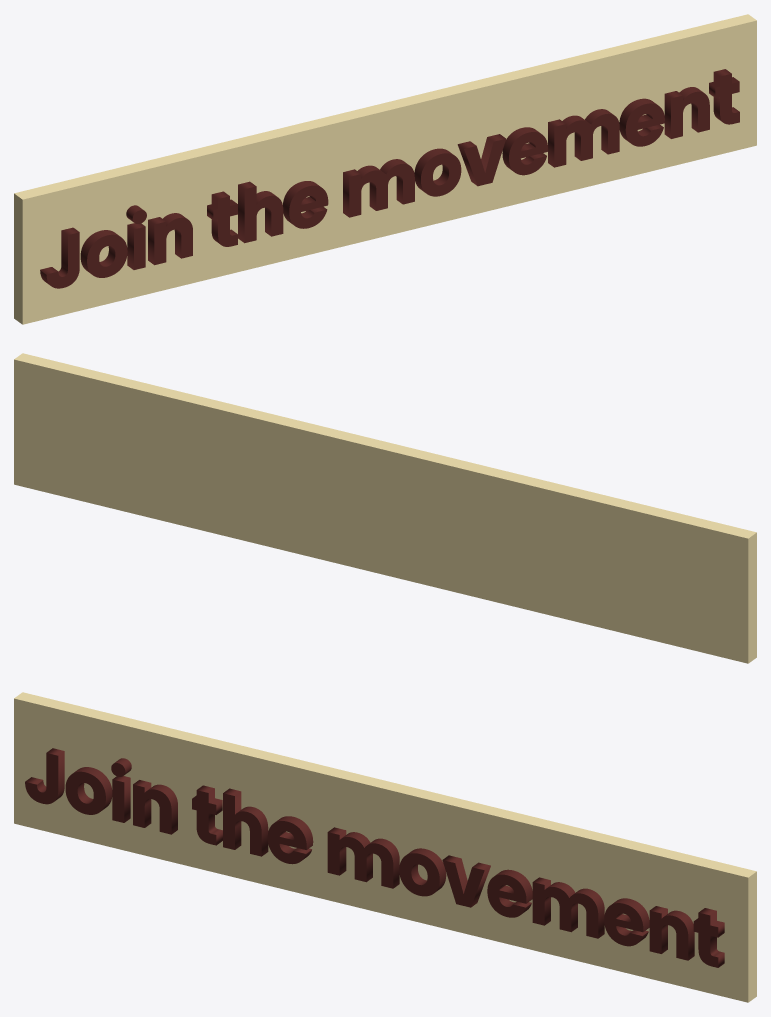
Rendered from joinButton.gltf.
3 renders of one model, top to bottom at view 1: azimuth 30°, elevation 25°; view 2: azimuth 150°, elevation 25°; view 3: azimuth 330°, elevation 25°, orthographic.
Parts seen in each view (by area): view 1: joinButton, Text.001; view 2: joinButton; view 3: joinButton, Text.001.
Part boxes in pixels (bbox=[...]): joinButton: bbox=[14, 14, 756, 324]; Text.001: bbox=[40, 69, 739, 288]; joinButton: bbox=[14, 353, 756, 663]; joinButton: bbox=[14, 692, 756, 1002]; Text.001: bbox=[25, 748, 724, 967].
Bounding box in the file's own units: 6.14 × 1 × 0.2186.
